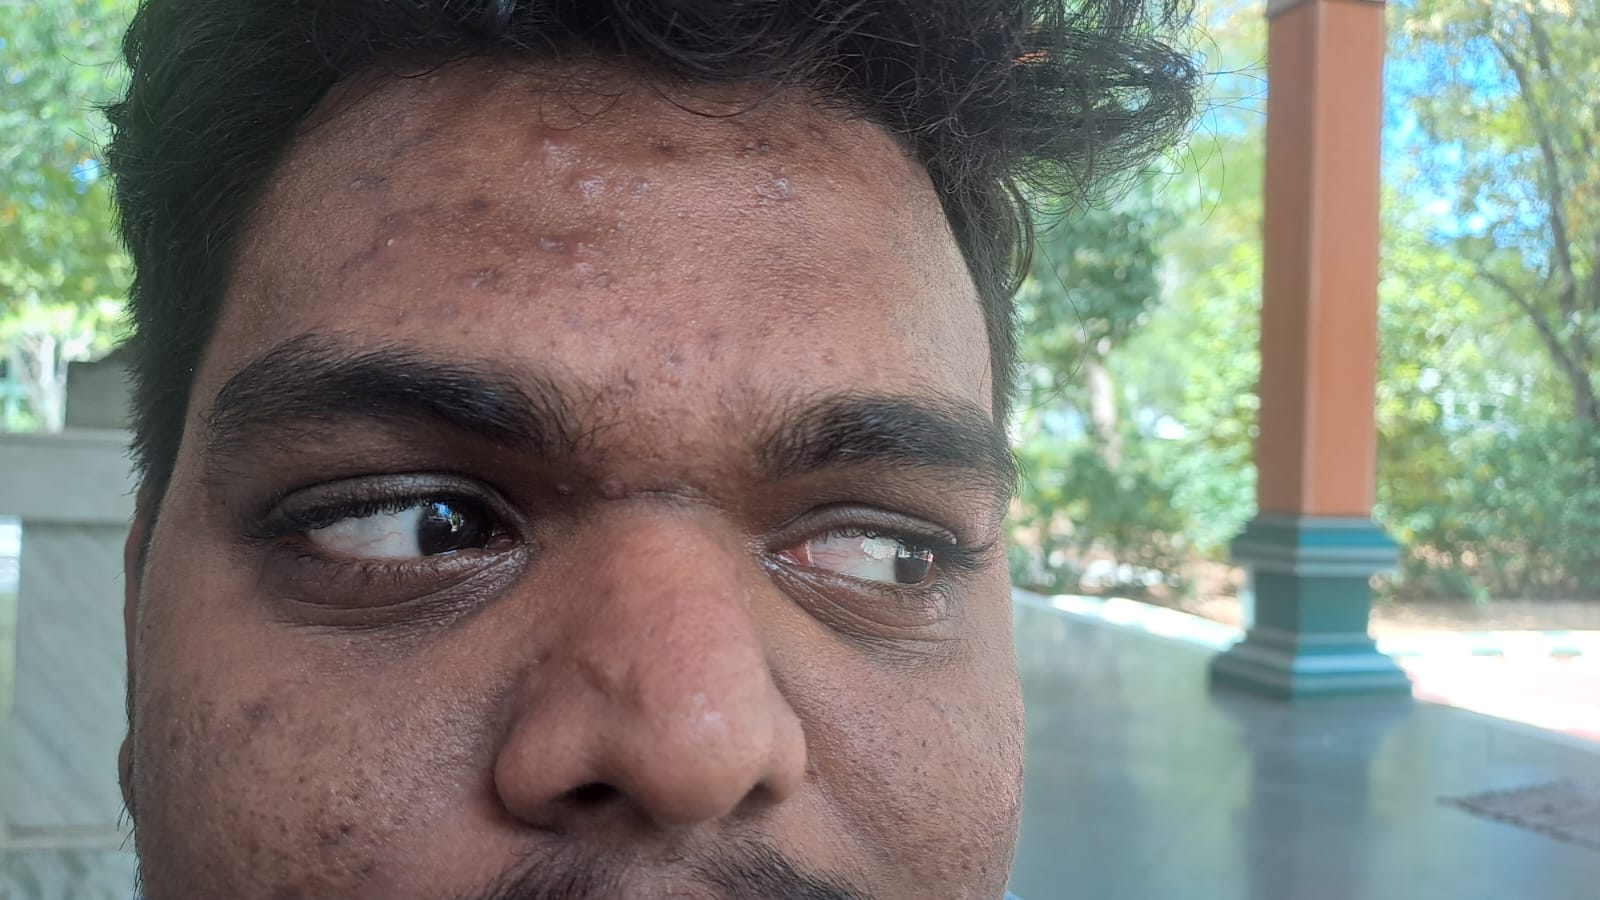EYE LEFT: (666, 296, 1074, 740), (131, 298, 589, 678)
